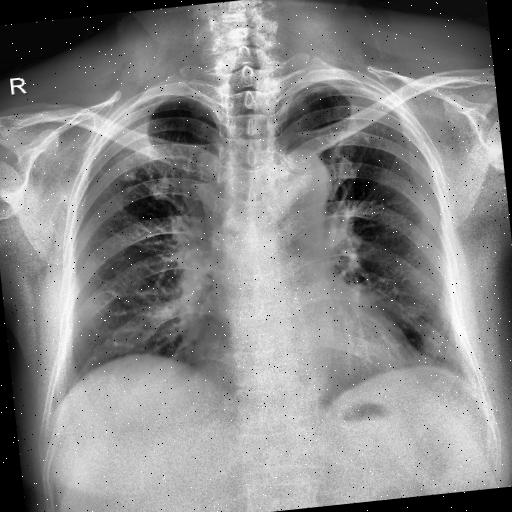0- Aortic enlargement: (266, 144, 340, 254), (255, 143, 337, 221), (254, 145, 333, 215)
3- Cardiomegaly: (191, 318, 427, 402), (187, 312, 418, 394), (192, 311, 431, 386)
